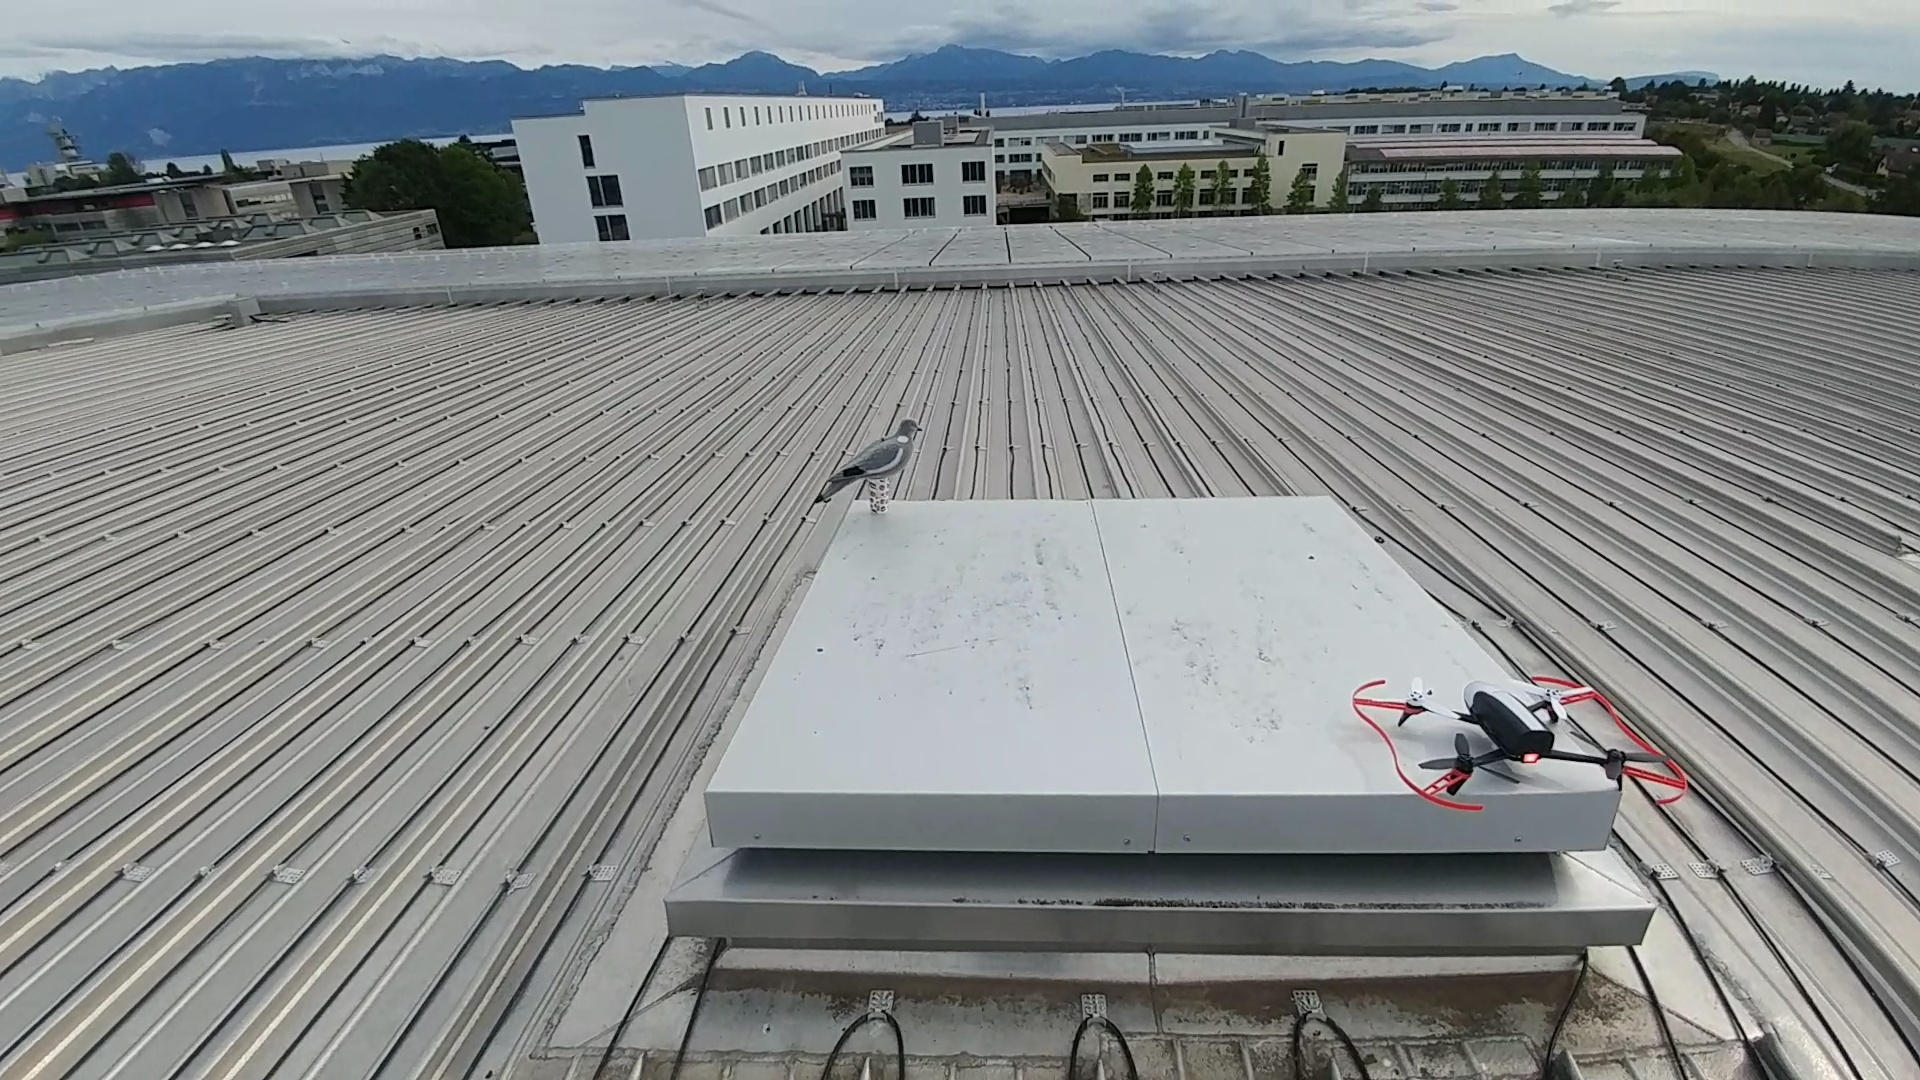Pigeon: (820, 415, 924, 488)
